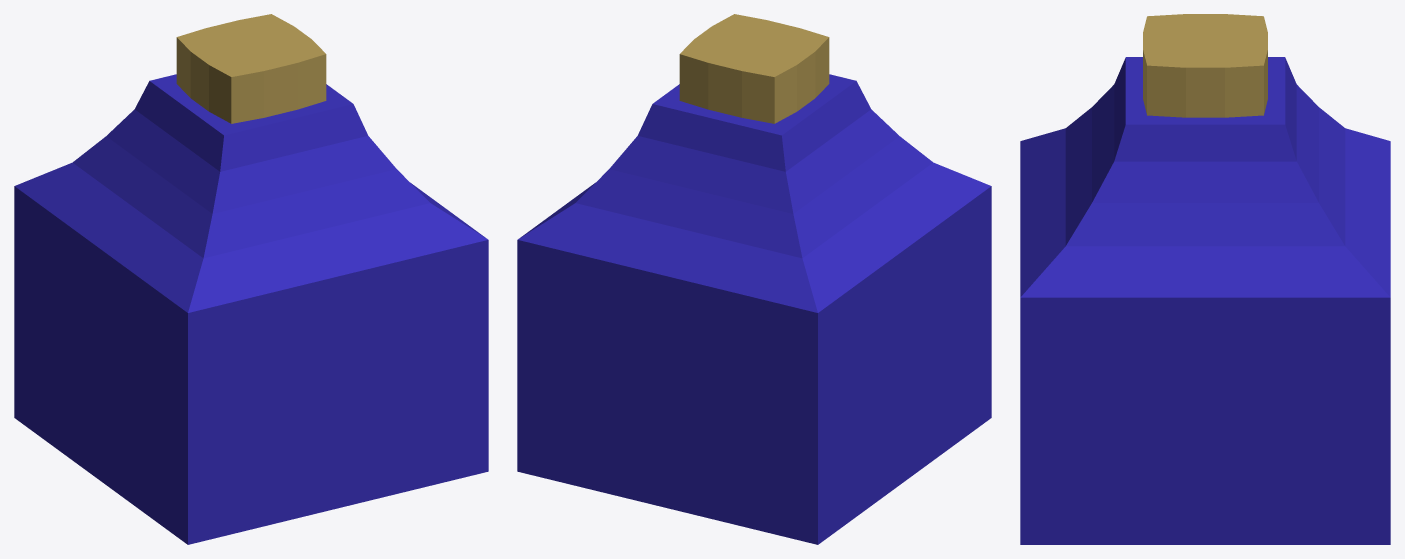
The model's file is MediumPotion_Mana.fbx.
The picture shows the model from 3 angles, left to right: view 1: azimuth 30°, elevation 25°; view 2: azimuth 150°, elevation 25°; view 3: azimuth 270°, elevation 25°; orthographic projection. The views are drawn at different scales.
Parts seen in each view (by area): view 1: MediumPotion_Mana; view 2: MediumPotion_Mana; view 3: MediumPotion_Mana.
Part boxes in pixels (x1=…): MediumPotion_Mana: x1=14, y1=14, x2=488, y2=544; MediumPotion_Mana: x1=517, y1=14, x2=991, y2=544; MediumPotion_Mana: x1=1020, y1=14, x2=1390, y2=544.
Size of the model in its own units: 414 by 526 by 414.
